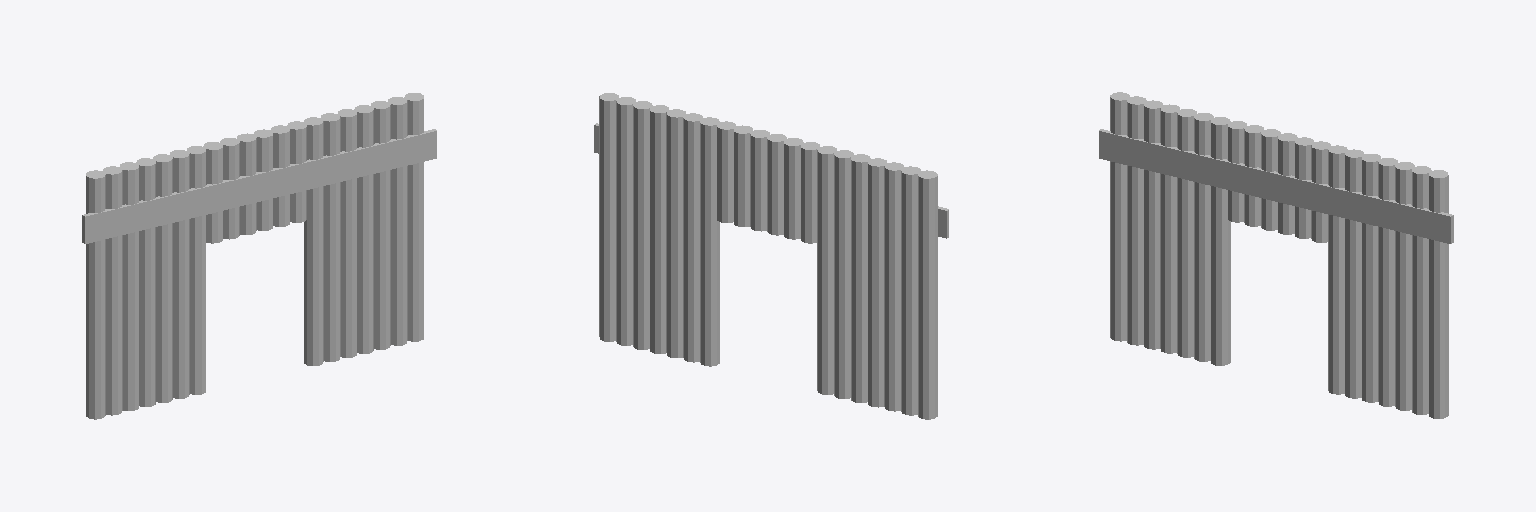
The model's file is marcoPuertaValla.obj.
3 renders of one model, left to right at view 1: azimuth 30°, elevation 25°; view 2: azimuth 150°, elevation 25°; view 3: azimuth 330°, elevation 25°, orthographic.
Parts seen in each view (by area): view 1: PuertaValla_Cylinder.016; view 2: PuertaValla_Cylinder.016; view 3: PuertaValla_Cylinder.016.
Part boxes in pixels (x1,y1,x2,y2): PuertaValla_Cylinder.016: (82, 93, 436, 419); PuertaValla_Cylinder.016: (594, 93, 948, 419); PuertaValla_Cylinder.016: (1099, 92, 1453, 418).
Bounding box in the file's own units: 8 × 5.22 × 0.409.